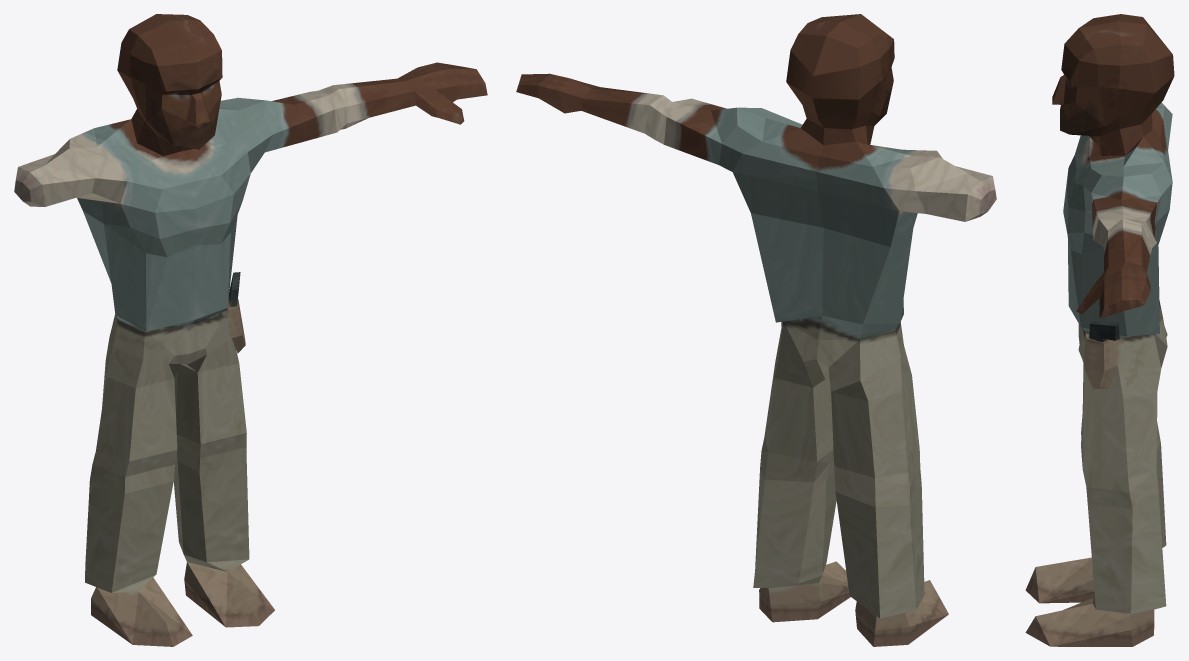
The model's file is SK_Sargent.fbx.
3 renders of one model, left to right at view 1: azimuth 30°, elevation 25°; view 2: azimuth 150°, elevation 25°; view 3: azimuth 270°, elevation 25°, orthographic. The views are drawn at different scales.
Parts seen in each view (by area): view 1: Sargent; view 2: Sargent; view 3: Sargent.
Boxes of the visible parts, box(x1,y1,x2,y2) form: Sargent: box(14, 14, 487, 646); Sargent: box(516, 14, 996, 646); Sargent: box(1025, 14, 1174, 646).
Size of the model in its own units: 39.29 by 48.23 by 11.03.
